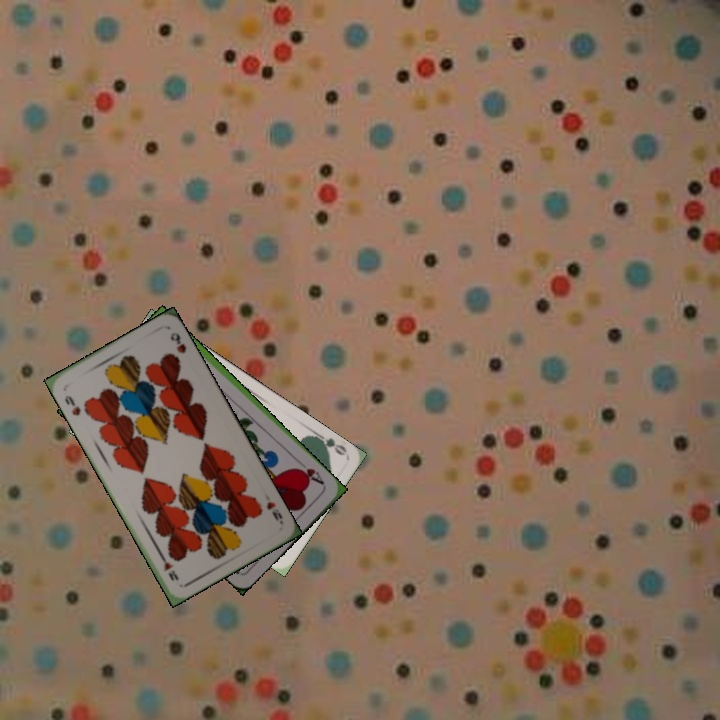GO: (310, 429, 349, 458)
H9: (263, 497, 285, 526), (60, 391, 83, 418)
HA: (293, 457, 327, 489)
